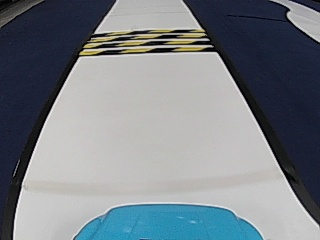bump: (93, 27, 195, 57)
